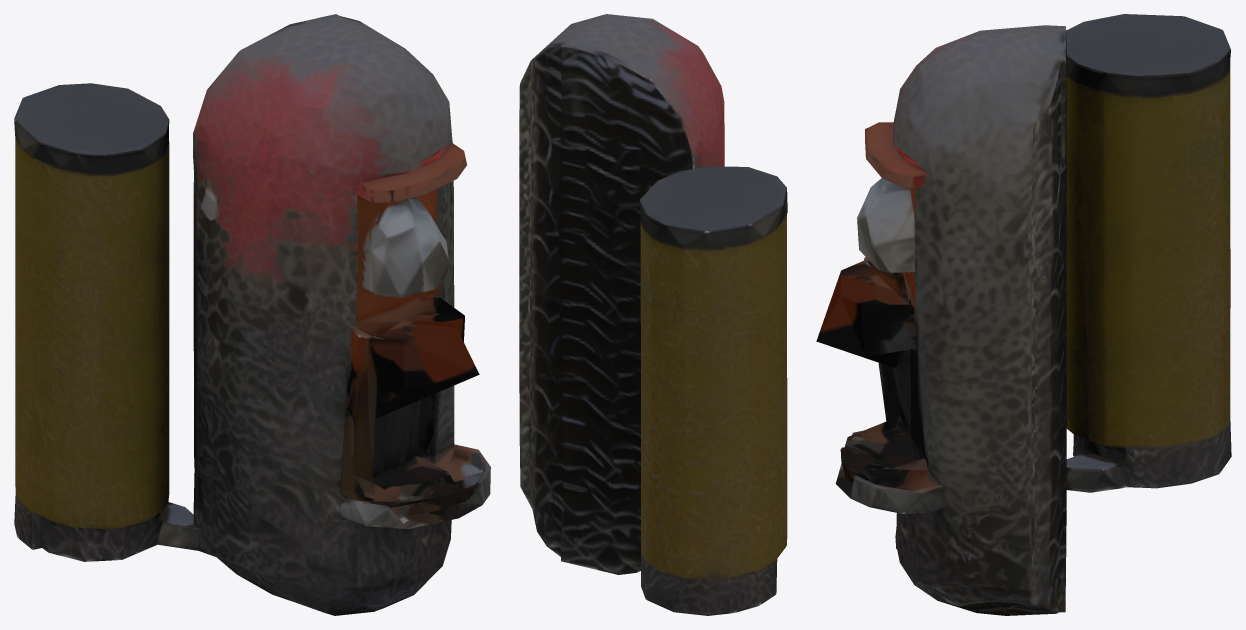
Rendered from base_basic_shaded.fbx.
The picture shows the model from 3 angles, left to right: view 1: azimuth 30°, elevation 25°; view 2: azimuth 150°, elevation 25°; view 3: azimuth 270°, elevation 25°; orthographic projection. The views are drawn at different scales.
Visible parts, largest first — view 1: model; view 2: model; view 3: model.
Boxes of the visible parts, x1,y1,x2,y2 form: model: (14,14,490,615); model: (519,14,787,615); model: (816,14,1231,615).
Bounding box in the file's own units: 121 × 190 × 129.
